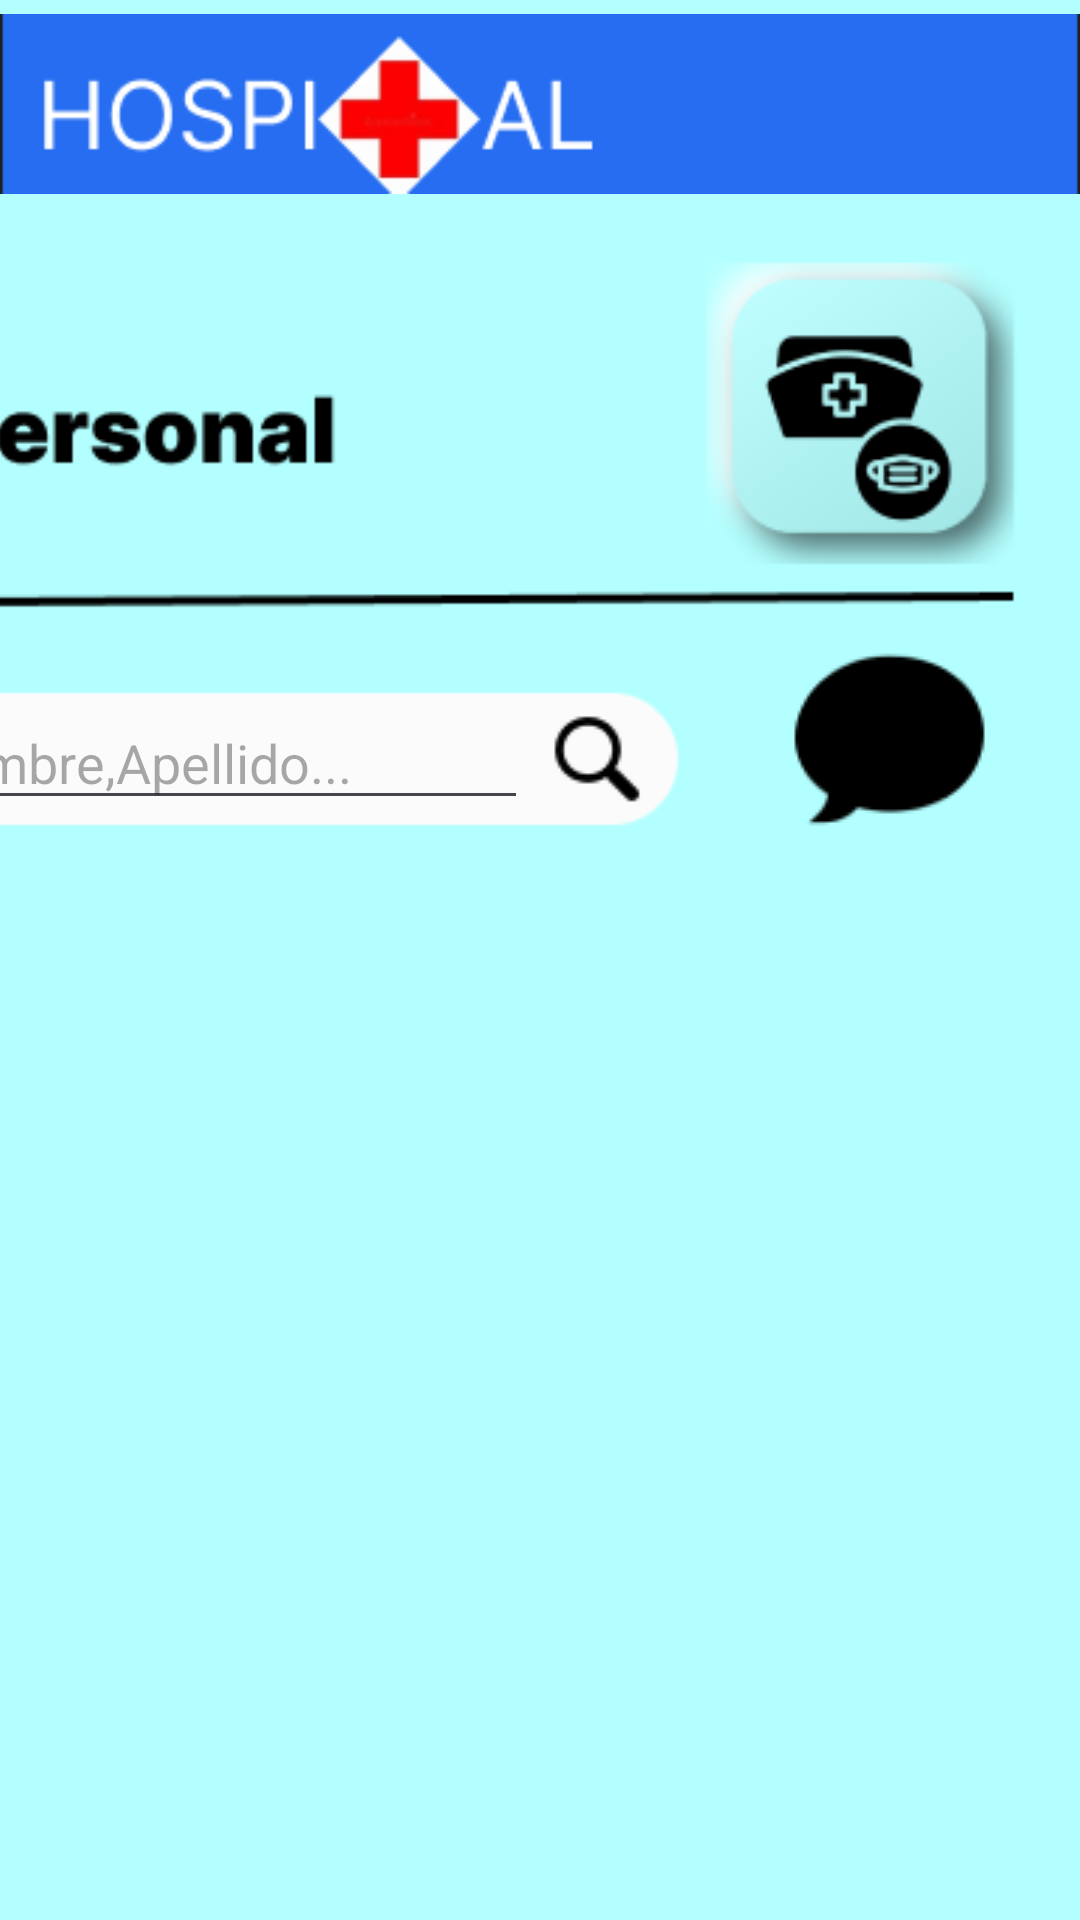

Where to tap for icons on this 1080×1920 app screen, as (x,y):
mensajeicono: (889,739)
